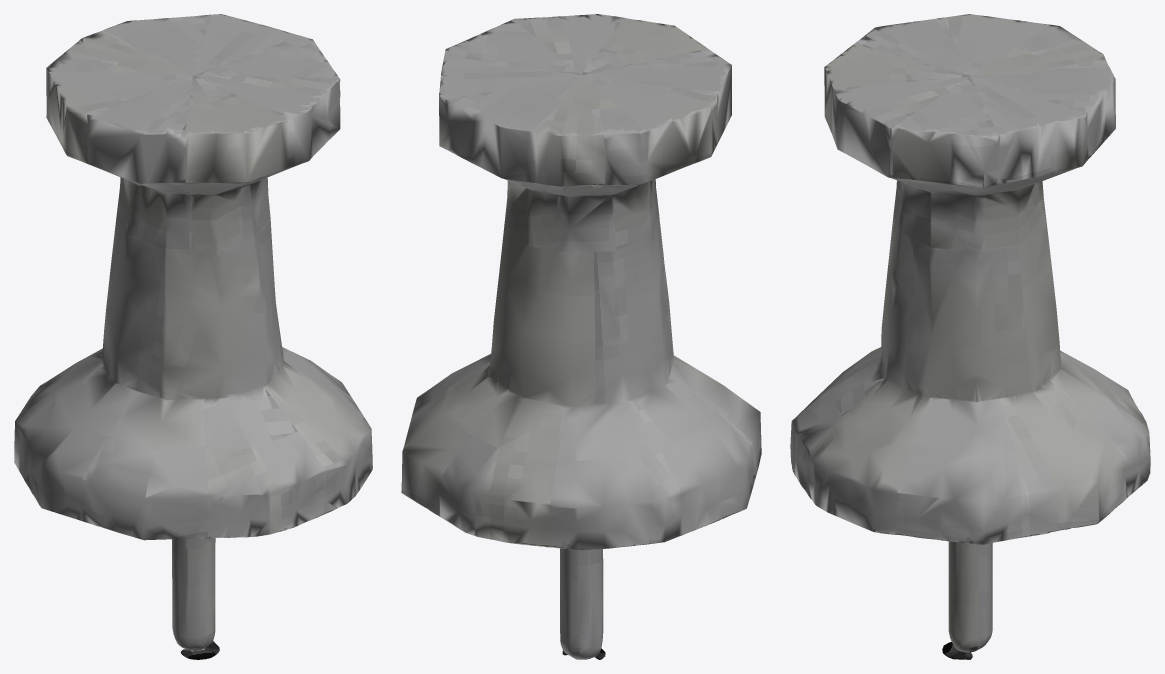
Rendered from xs_pushpin.glb.
3 views of the same model, side by side, from view 1: azimuth 30°, elevation 25°; view 2: azimuth 150°, elevation 25°; view 3: azimuth 270°, elevation 25° (orthographic).
Visible parts, largest first — view 1: tripo_node_9c46ec91-fcc4-423d-82b9-89a8de9d8d2d; view 2: tripo_node_9c46ec91-fcc4-423d-82b9-89a8de9d8d2d; view 3: tripo_node_9c46ec91-fcc4-423d-82b9-89a8de9d8d2d.
Boxes of the visible parts, x1,y1,x2,y2 form: tripo_node_9c46ec91-fcc4-423d-82b9-89a8de9d8d2d: (14,14,372,659); tripo_node_9c46ec91-fcc4-423d-82b9-89a8de9d8d2d: (401,14,761,659); tripo_node_9c46ec91-fcc4-423d-82b9-89a8de9d8d2d: (790,14,1150,659).
Bounding box in the file's own units: 0.5716 × 0.9978 × 0.5665.
Materials: 1 (1 with a texture image).
